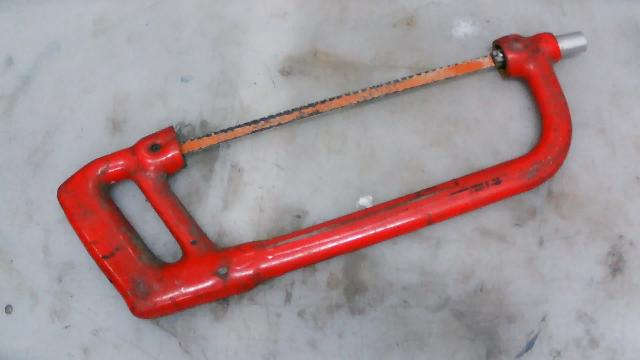gergaji_besi: (36, 29, 640, 323)
